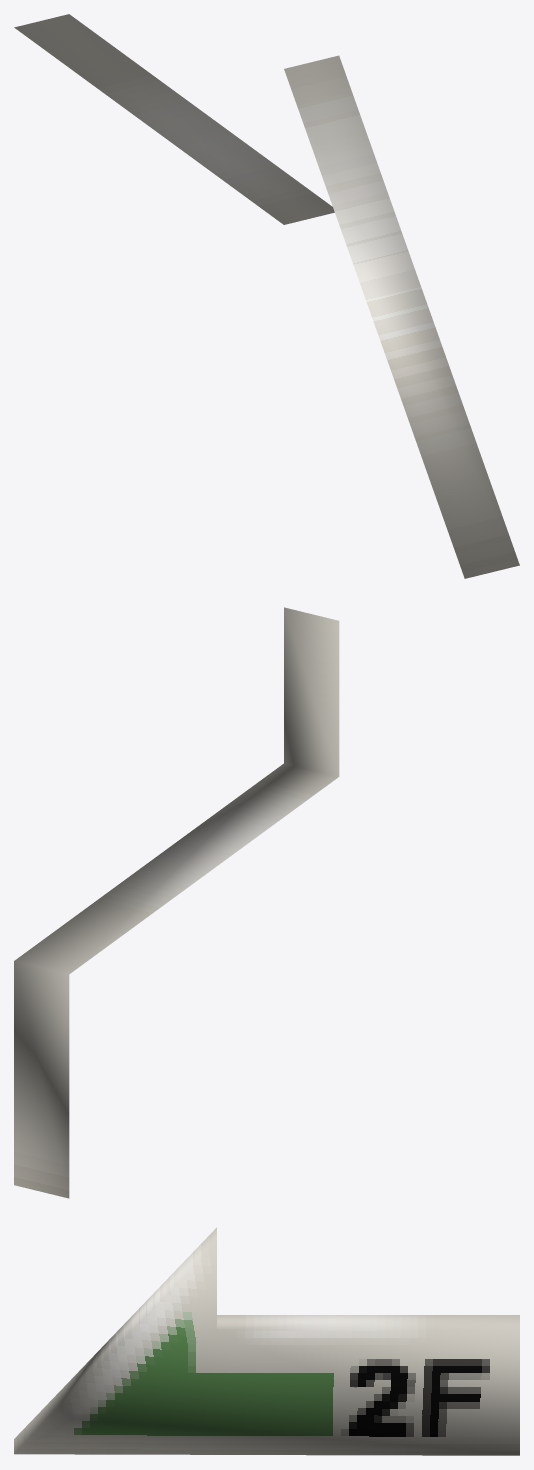
The model's file is a_SCsign01_a2.glb.
3 renders of one model, top to bottom at view 1: azimuth 30°, elevation 25°; view 2: azimuth 150°, elevation 25°; view 3: azimuth 270°, elevation 25°, orthographic. The views are drawn at different scales.
Visible parts, largest first — view 1: a_SCsign01_a2; view 2: a_SCsign01_a2; view 3: a_SCsign01_a2.
Part boxes in pixels (left/top/right/bottom): a_SCsign01_a2: left=14, top=14, right=519, bottom=578; a_SCsign01_a2: left=14, top=607, right=339, bottom=1198; a_SCsign01_a2: left=14, top=1227, right=519, bottom=1455.
Bounding box in the file's own units: 0.0424 × 0.279 × 0.5994.
Materials: 1 (1 with a texture image).
